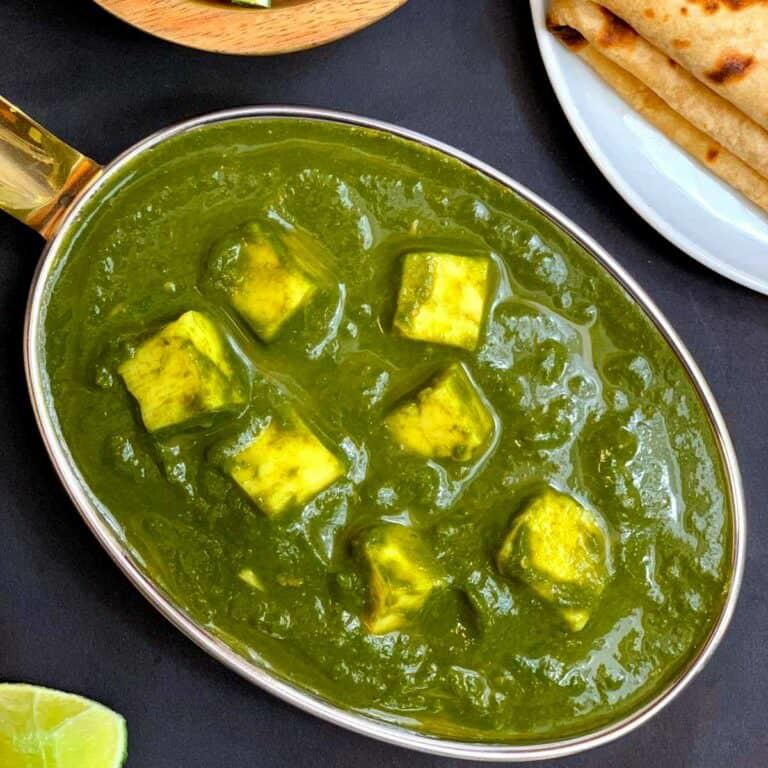PalakPaneer: (49, 132, 736, 743)
